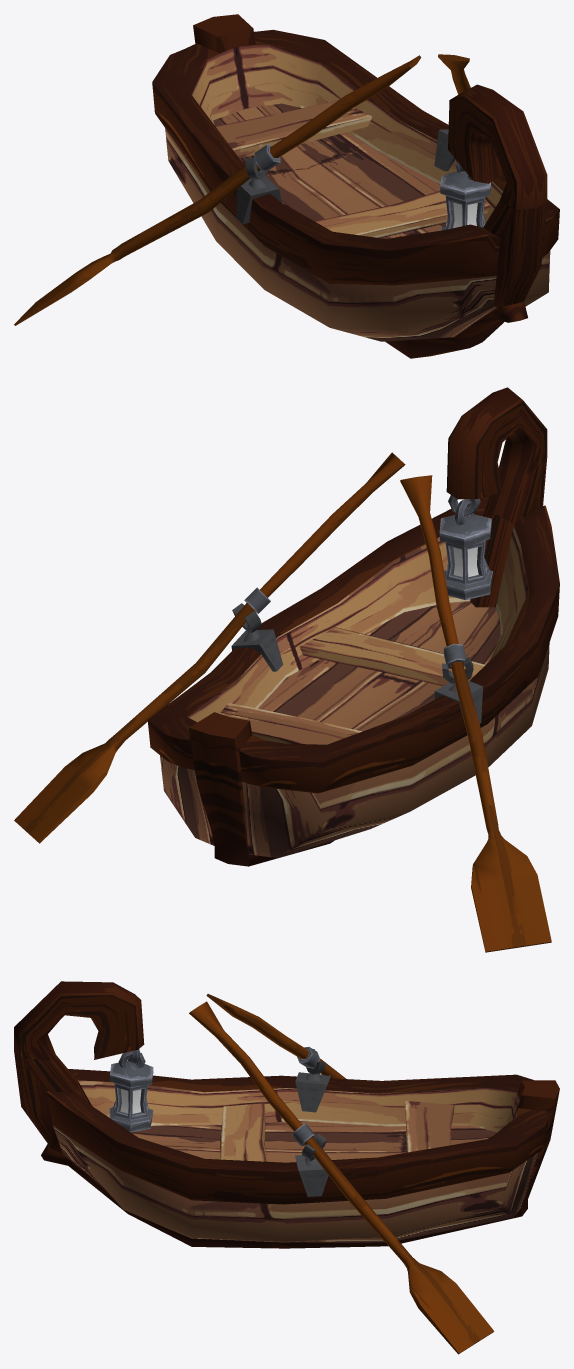
File: barque-1.glb
The picture shows the model from 3 angles, top to bottom: view 1: azimuth 30°, elevation 25°; view 2: azimuth 150°, elevation 25°; view 3: azimuth 270°, elevation 25°; orthographic projection. The views are drawn at different scales.
Parts seen in each view (by area): view 1: SM_PROP_rowboat, SM_PROP_rowboat_lantern; view 2: SM_PROP_rowboat, SM_PROP_rowboat_lantern; view 3: SM_PROP_rowboat, SM_PROP_rowboat_lantern.
Part boxes in pixels (left/top/right/bottom): SM_PROP_rowboat: left=14, top=14, right=559, bottom=358; SM_PROP_rowboat_lantern: left=440, top=160, right=491, bottom=230; SM_PROP_rowboat: left=14, top=387, right=559, bottom=952; SM_PROP_rowboat_lantern: left=439, top=495, right=492, bottom=600; SM_PROP_rowboat: left=14, top=981, right=559, bottom=1354; SM_PROP_rowboat_lantern: left=109, top=1049, right=153, bottom=1132.
Bounding box in the file's own units: 3.78 × 2.24 × 4.06.
Materials: 6 (5 with a texture image).
